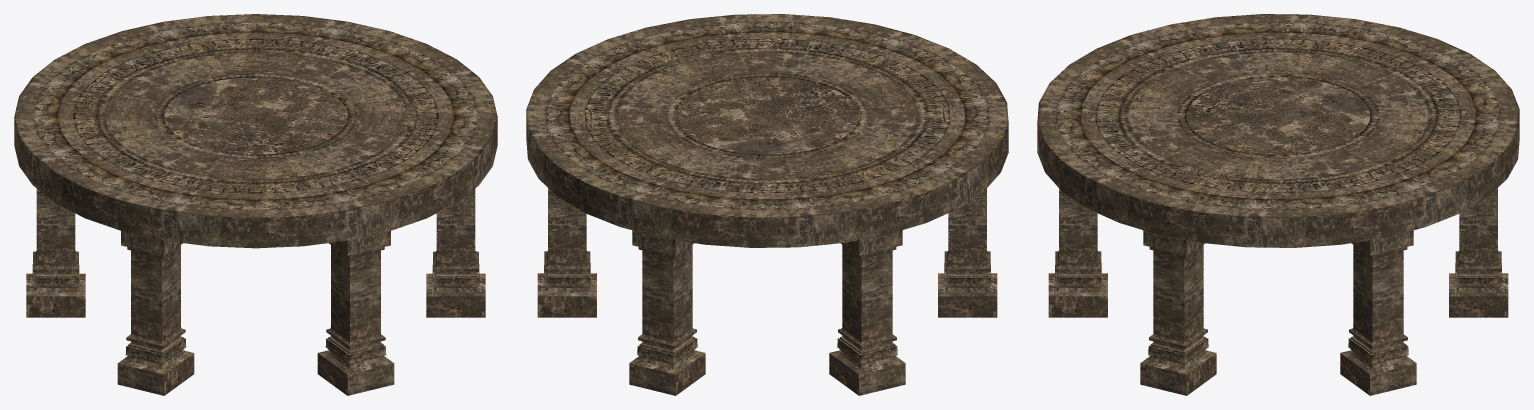
File: materials_5_table_0.fbx
3 renders of one model, left to right at view 1: azimuth 30°, elevation 25°; view 2: azimuth 150°, elevation 25°; view 3: azimuth 270°, elevation 25°, orthographic.
Parts seen in each view (by area): view 1: materials_5_table_0; view 2: materials_5_table_0; view 3: materials_5_table_0.
Part boxes in pixels (bbox=[...]): materials_5_table_0: bbox=[14, 14, 497, 395]; materials_5_table_0: bbox=[526, 14, 1008, 395]; materials_5_table_0: bbox=[1037, 14, 1519, 395].
Size of the model in its own units: 175 by 76.06 by 175.
